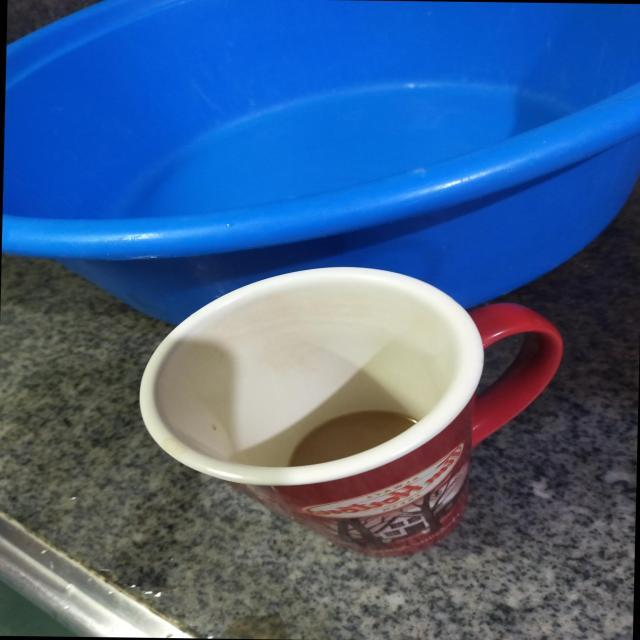taza: (137, 266, 561, 560)
